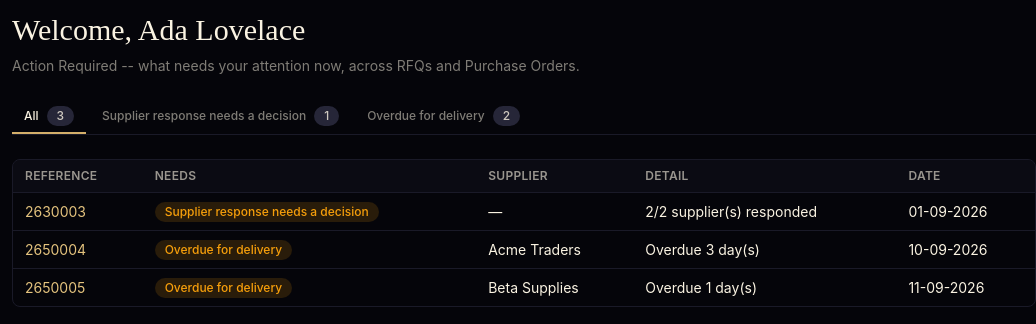
Test: DashboardPage › groups items into tabs by their existing type and filters the table on selection
Expected: the link "2630003" is shown, [25,202,86,220]
Step 1. Click the tab "Overdue for delivery 2" → point(444, 117), box [355,100,532,134]
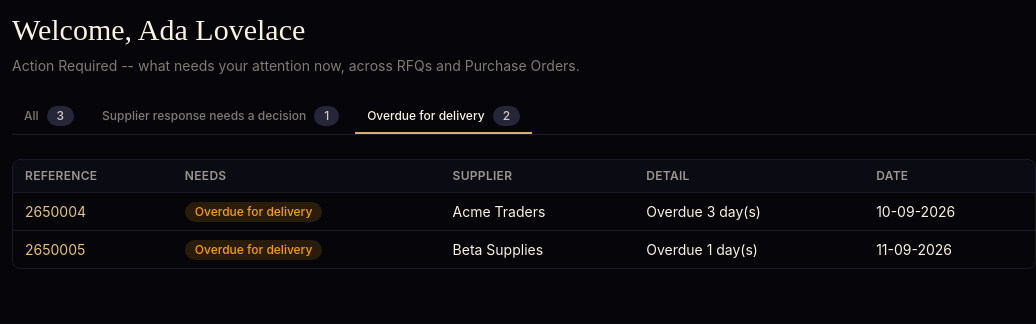
Expected: the link "2650004" is shown, [25,202,86,220]
Expected: the link "2630003" is gone
